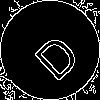D: (25, 25, 83, 83)
